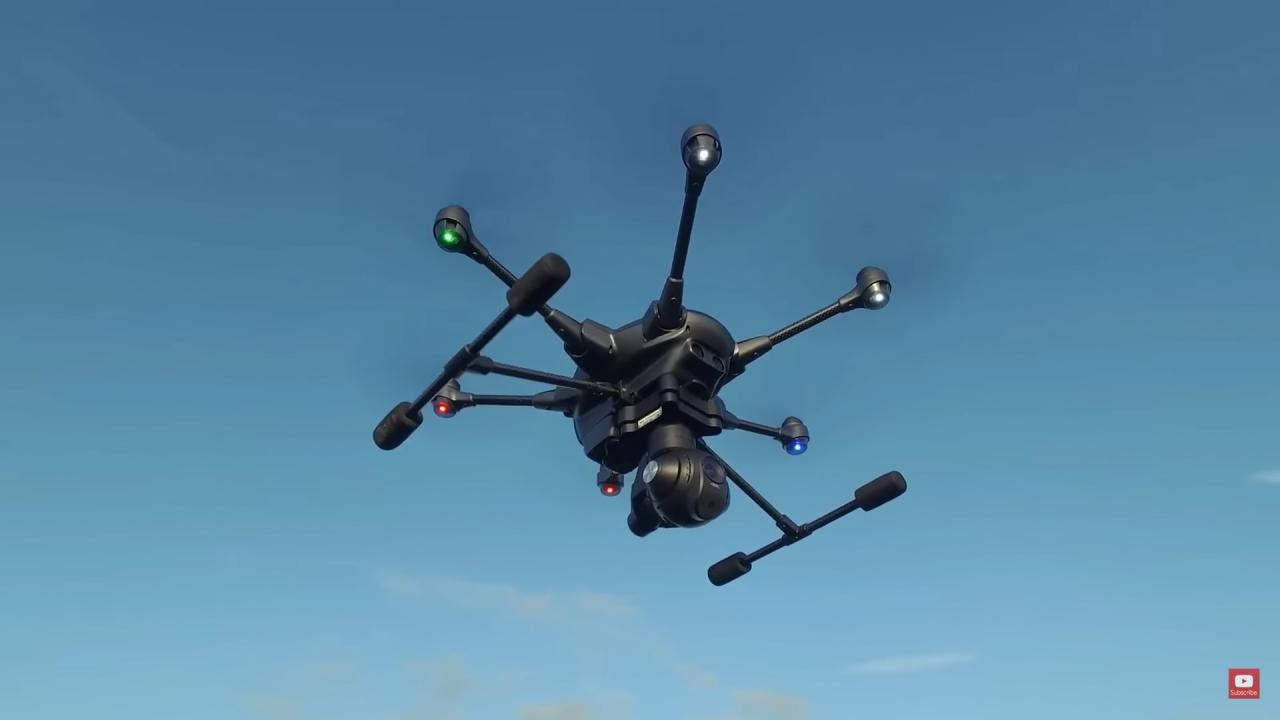Drone: (362, 103, 916, 602)
